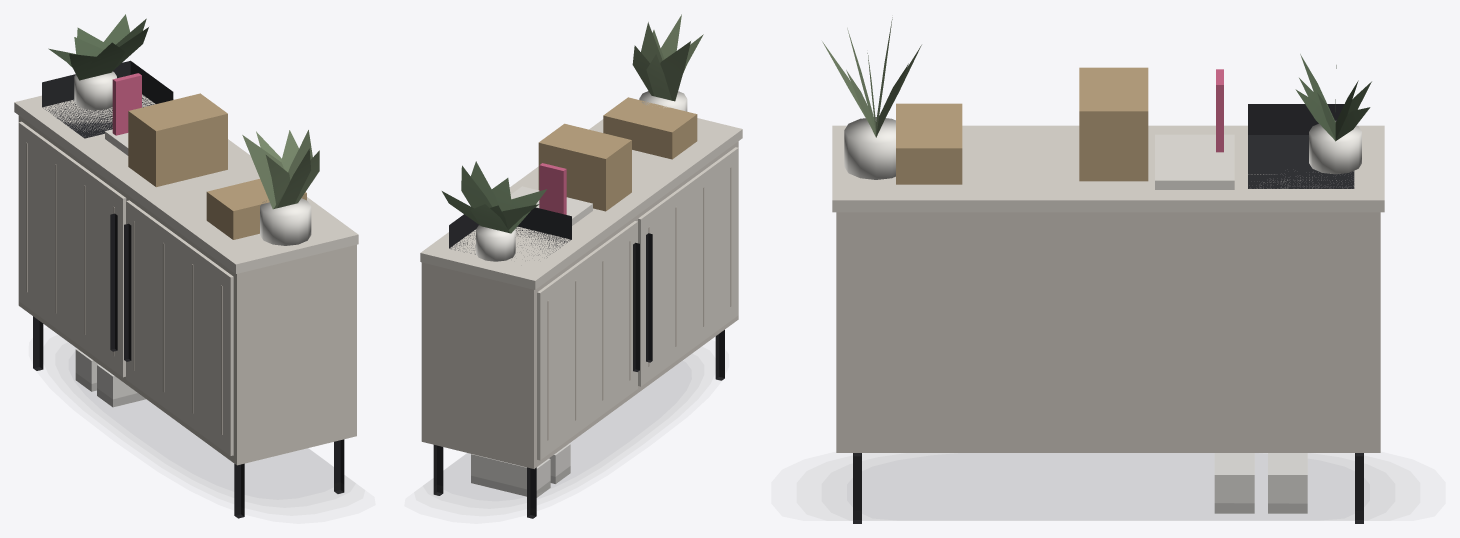
Rendered from hall1f_entry_console.glb.
The picture shows the model from 3 angles, left to right: view 1: azimuth 30°, elevation 25°; view 2: azimuth 150°, elevation 25°; view 3: azimuth 270°, elevation 25°; orthographic projection. The views are drawn at different scales.
Parts seen in each view (by area): view 1: root; view 2: root; view 3: root.
Boxes of the visible parts, bbox=[...] form: root: bbox=[14, 14, 358, 518]; root: bbox=[420, 14, 742, 518]; root: bbox=[822, 17, 1384, 523].
Size of the model in its own units: 0.4572 by 1.16 by 1.55.
